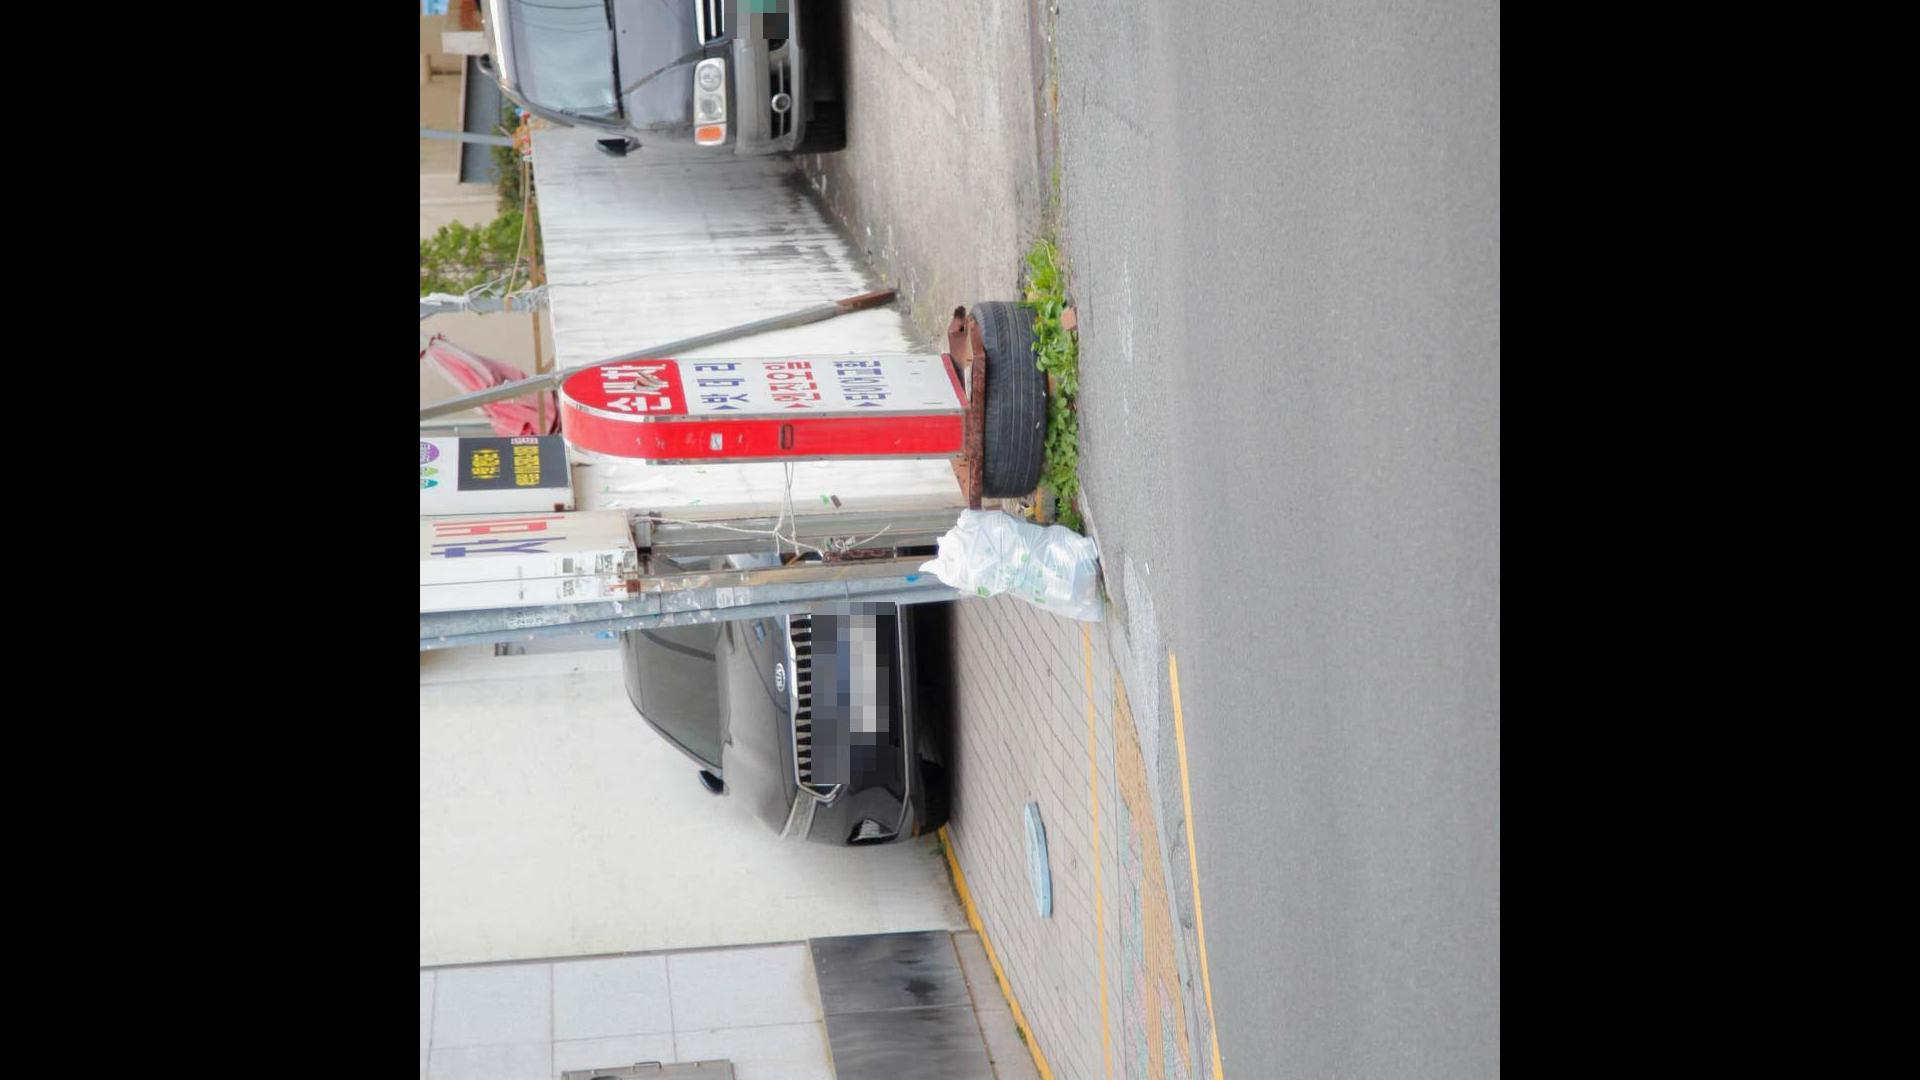white_bag: (909, 506, 1117, 632)
